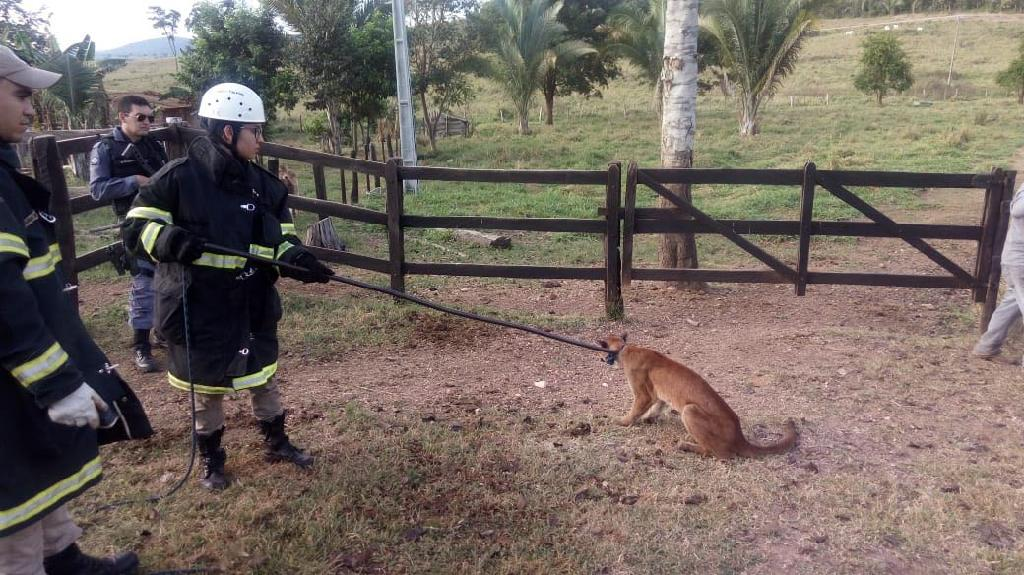OncaParda: (586, 328, 811, 471)
